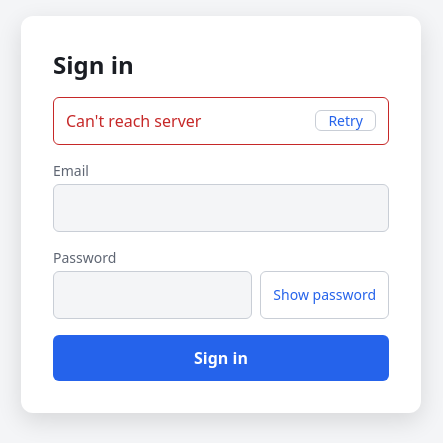
it: session › retry_restores_session_after_outage
The image size is (443, 443).
Click the button "Retry" at (346, 120), box [315,110,376,131]
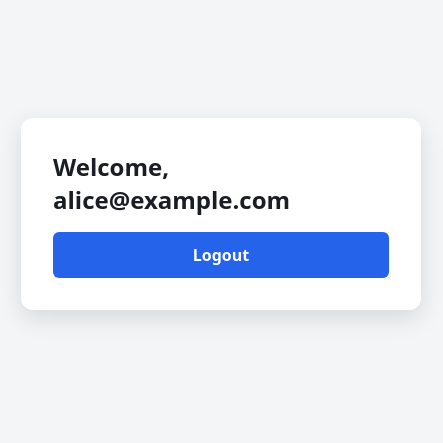
Result: the heading "Welcome, alice@example.com" is shown at [53,150,290,216]
